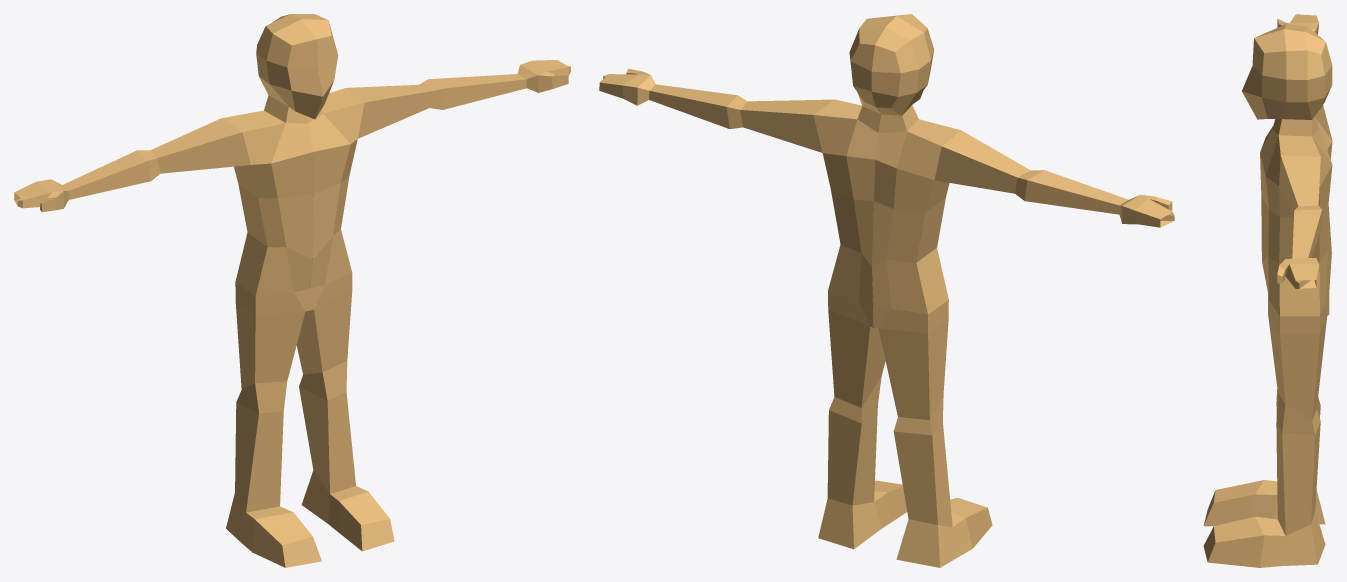
File: Character.fbx
The picture shows the model from 3 angles, left to right: view 1: azimuth 30°, elevation 25°; view 2: azimuth 150°, elevation 25°; view 3: azimuth 270°, elevation 25°; orthographic projection. The views are drawn at different scales.
Visible parts, largest first — view 1: Cube; view 2: Cube; view 3: Cube.
Boxes of the visible parts, x1,y1,x2,y2 form: Cube: (14,14,570,567); Cube: (599,14,1174,567); Cube: (1203,14,1332,567).
Size of the model in its own units: 1920 by 1690 by 388.
